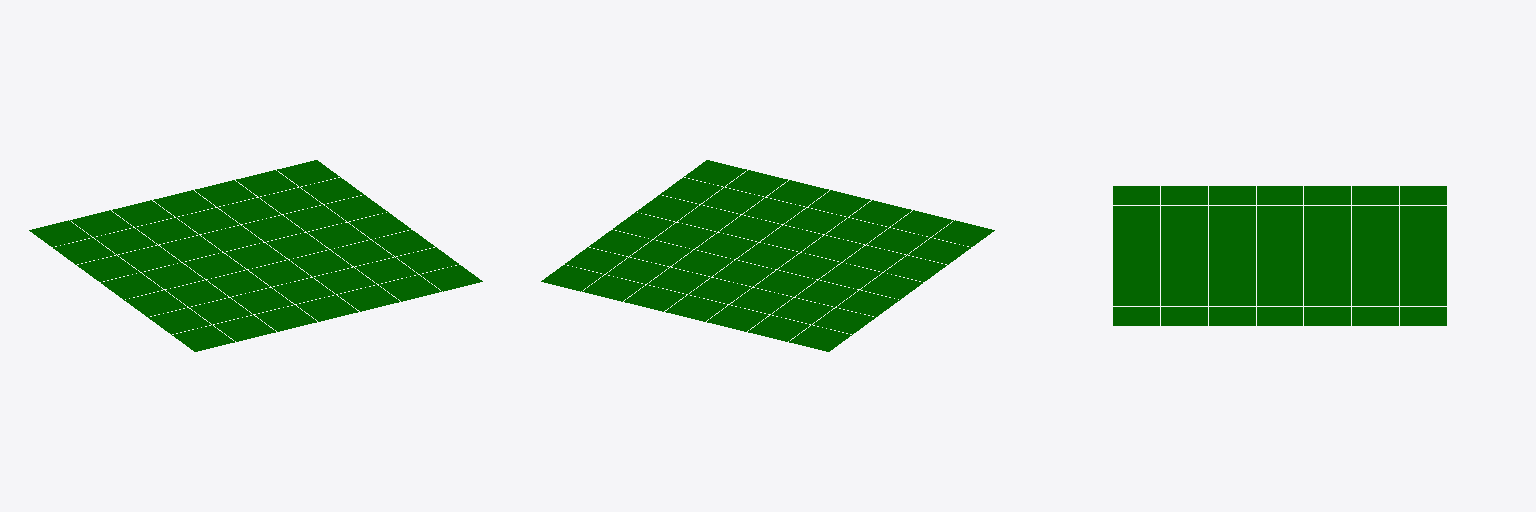
Rendered from floor.obj.
3 renders of one model, left to right at view 1: azimuth 30°, elevation 25°; view 2: azimuth 150°, elevation 25°; view 3: azimuth 270°, elevation 25°, orthographic.
Visible parts, largest first — view 1: floor; view 2: floor; view 3: floor.
Part boxes in pixels (x1,y1,x2,y2): floor: (29,160,482,351); floor: (541,160,994,351); floor: (1113,186,1446,325).
Bounding box in the file's own units: 7.12 × 0 × 7.12.